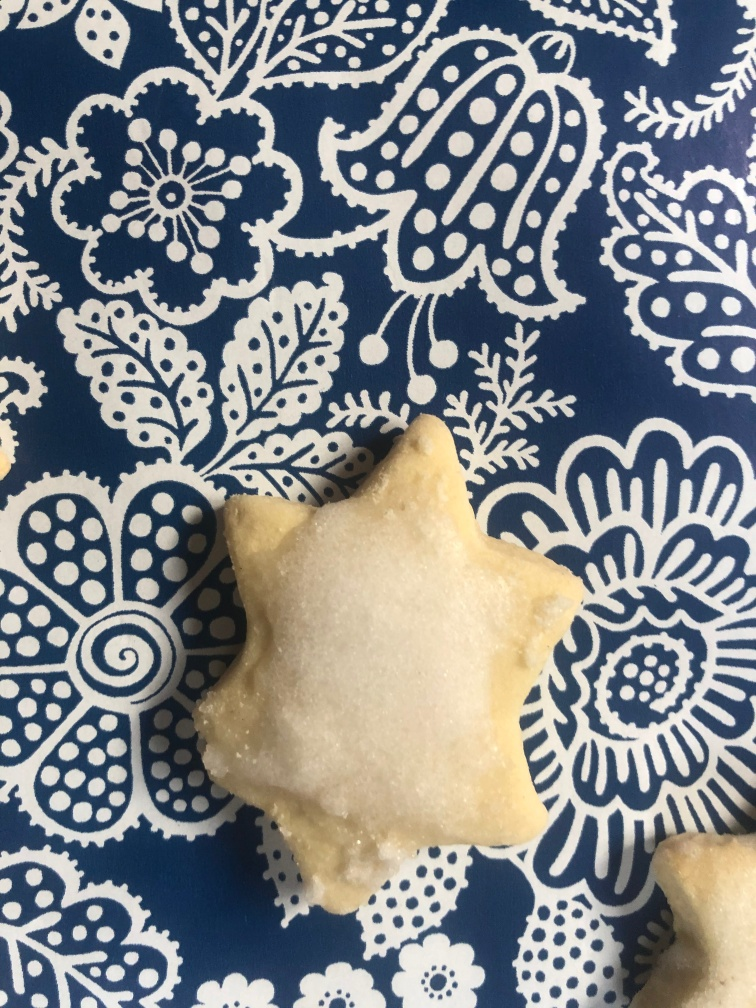star: (171, 406, 586, 911)
